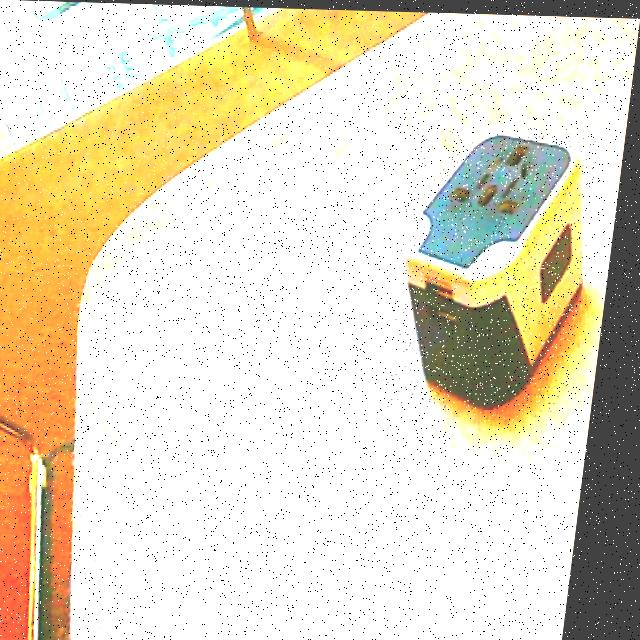adapter: (392, 122, 605, 408)
